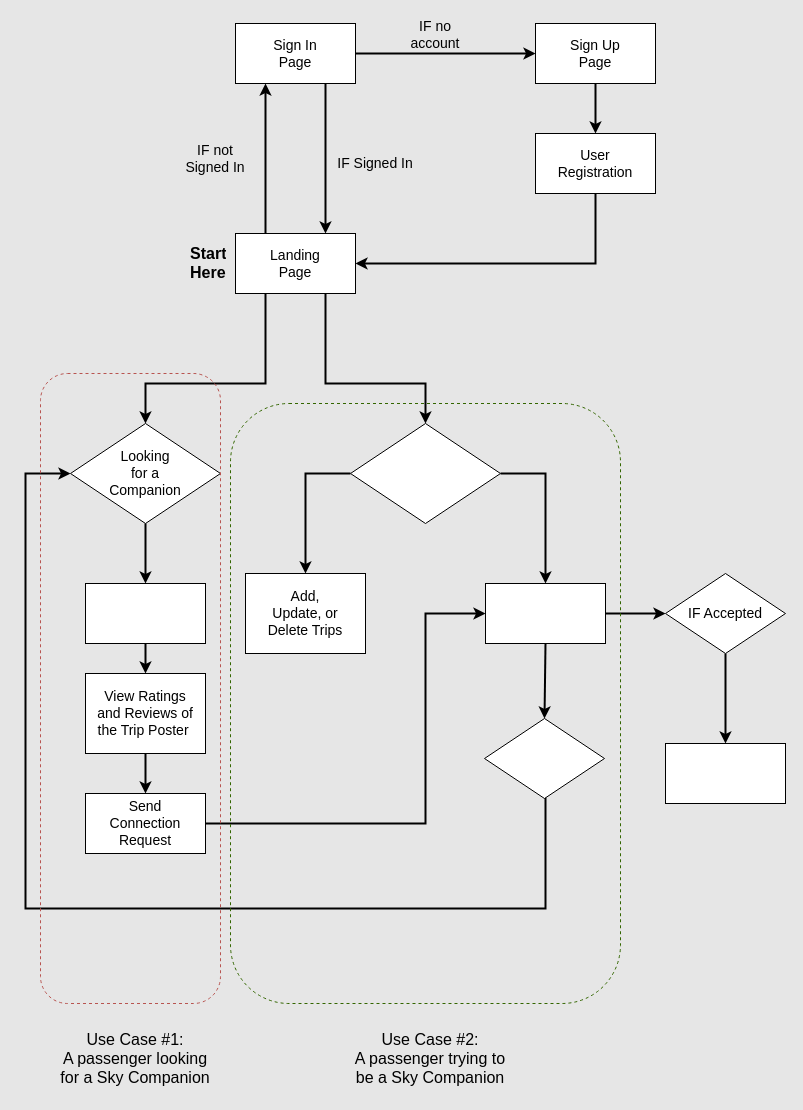
Image size: 803x1110. Some labels were removed from this diagram. Each missing label, with the centre of its shape:
Accept/Deny requests for existing trip: the point at 545,613
Be a Companion: the point at 425,473
Browse Trips: the point at 145,613
Happy Journey ✈️ 🎉: the point at 725,773
IF Denied: the point at 544,758
